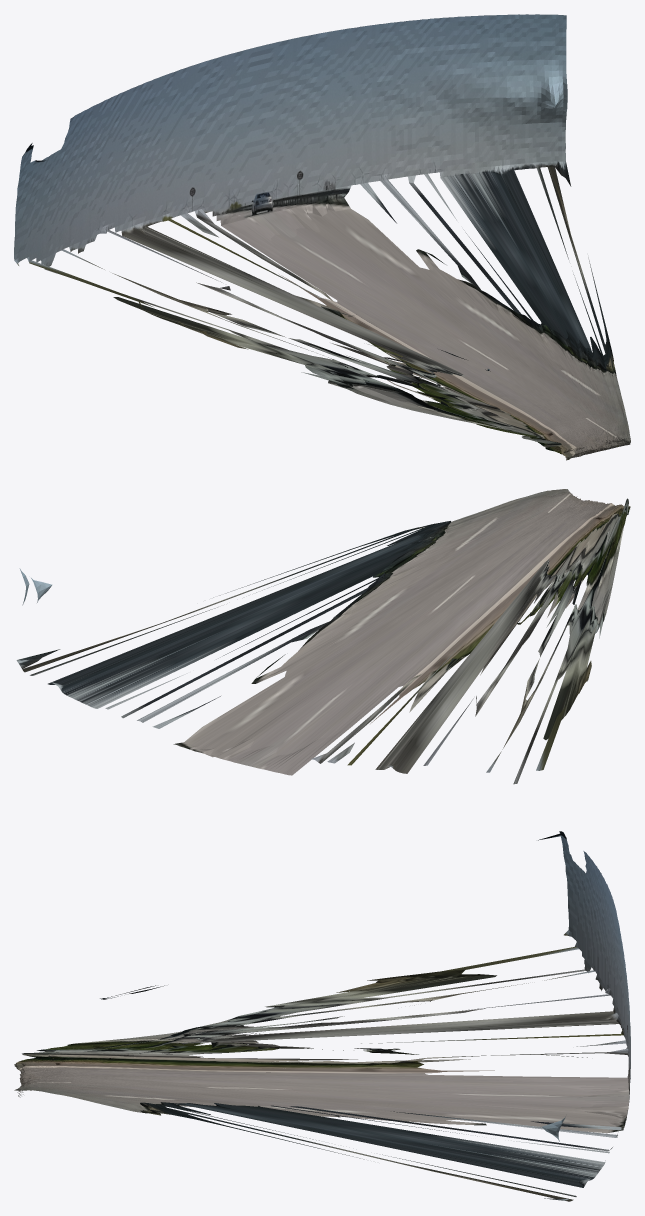
The picture shows the model from 3 angles, top to bottom: view 1: azimuth 30°, elevation 25°; view 2: azimuth 150°, elevation 25°; view 3: azimuth 270°, elevation 25°; orthographic projection. The views are drawn at different scales.
Parts seen in each view (by area): view 1: defaultobject; view 2: defaultobject; view 3: defaultobject.
Part boxes in pixels (x1=…): defaultobject: x1=14, y1=14, x2=630, y2=460; defaultobject: x1=16, y1=489, x2=630, y2=784; defaultobject: x1=14, y1=831, x2=630, y2=1201.
Size of the model in its own units: 41.09 by 13.51 by 44.46.
Materials: 1 (1 with a texture image).
